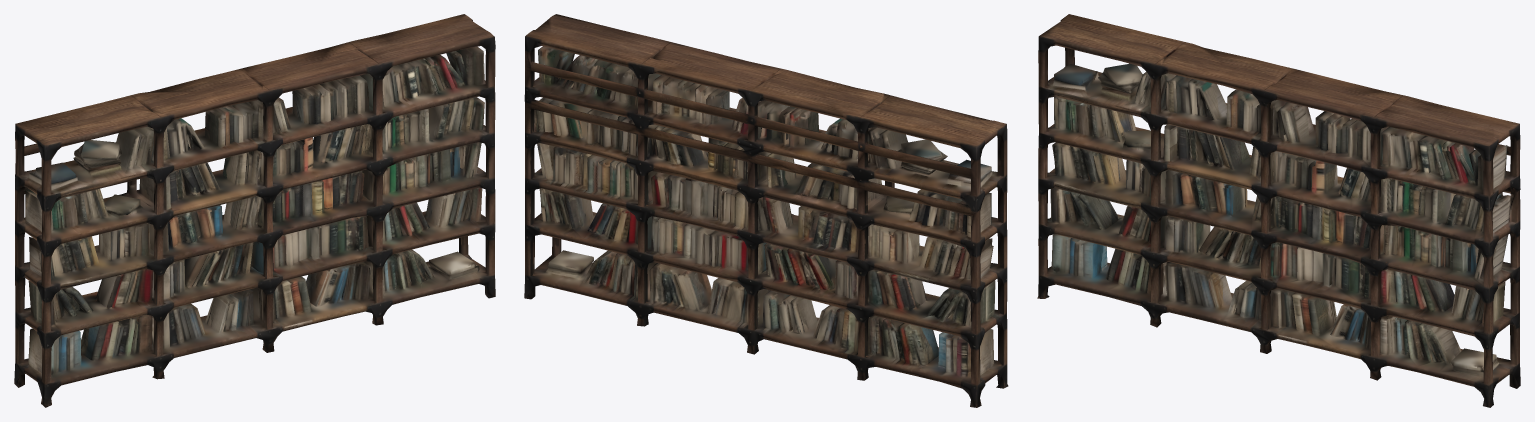
File: rishi_shugui.fbx
3 renders of one model, left to right at view 1: azimuth 30°, elevation 25°; view 2: azimuth 150°, elevation 25°; view 3: azimuth 330°, elevation 25°, orthographic.
Parts seen in each view (by area): view 1: mesh_node; view 2: mesh_node; view 3: mesh_node.
Boxes of the visible parts, x1=… form: mesh_node: x1=14, y1=14, x2=495, y2=407; mesh_node: x1=524, y1=14, x2=1008, y2=407; mesh_node: x1=1037, y1=14, x2=1520, y2=407.
Size of the model in its own units: 1.98 by 1.1 by 0.2402.
